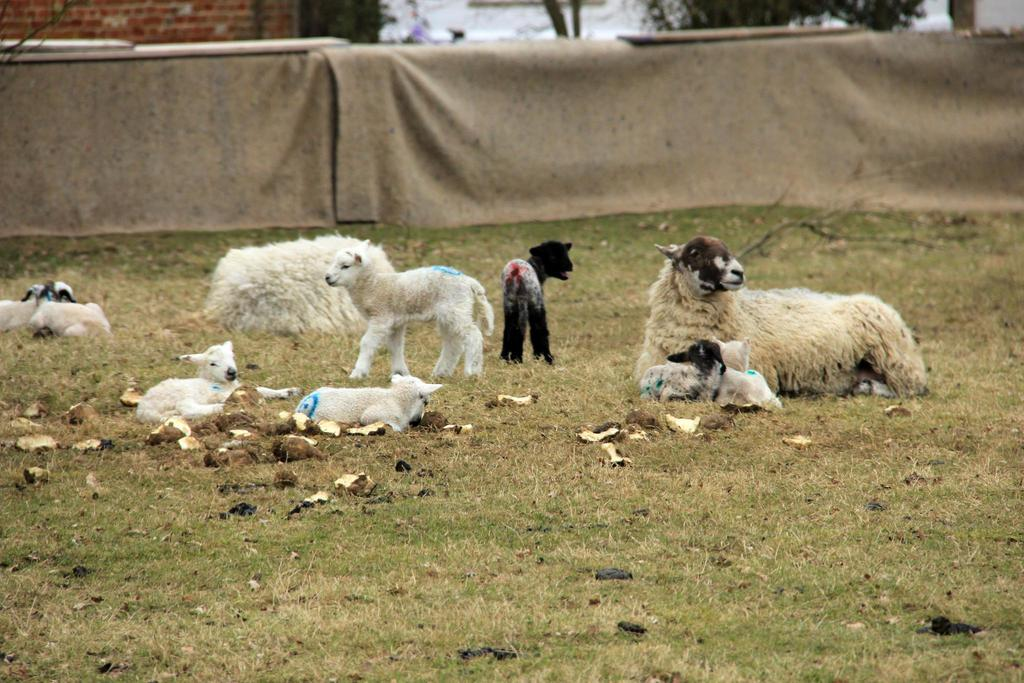sheep: (641, 340, 776, 409), (500, 241, 570, 363), (23, 285, 111, 337)
